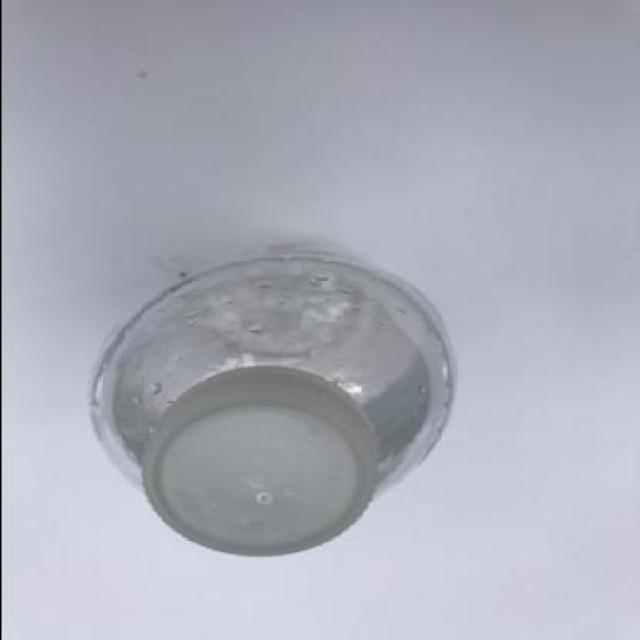PLASTIC: (87, 242, 451, 560), (140, 368, 377, 555)
